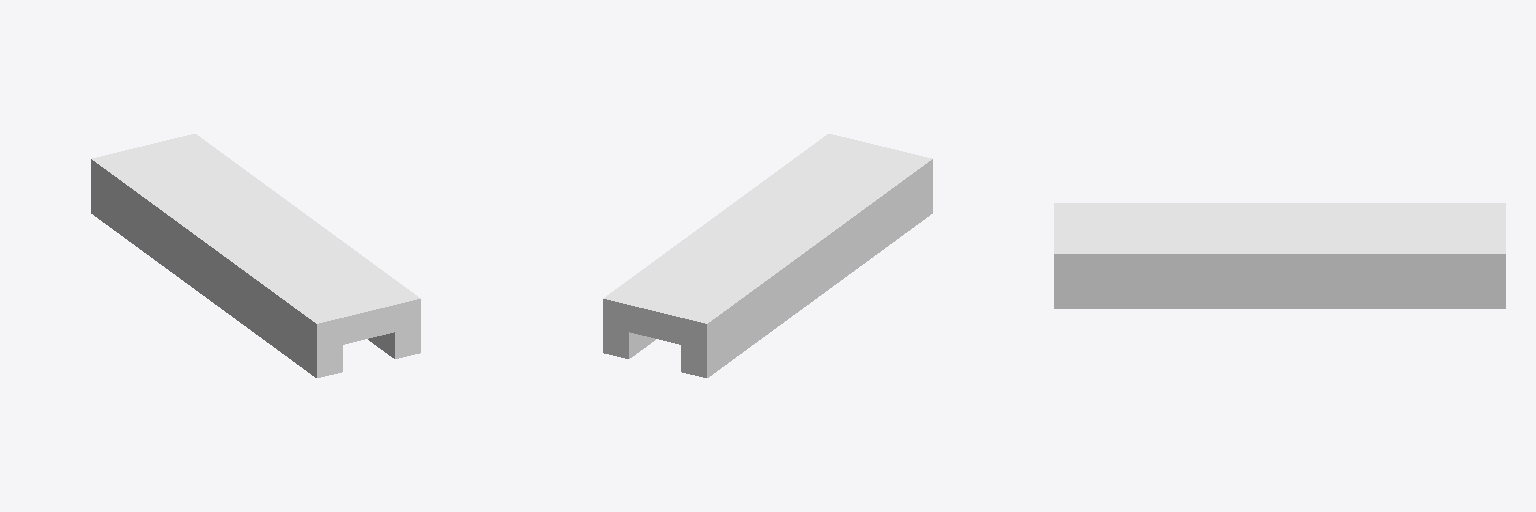
The model's file is Log.obj.
The picture shows the model from 3 angles: view 1: azimuth 30°, elevation 25°; view 2: azimuth 150°, elevation 25°; view 3: azimuth 270°, elevation 25°; orthographic projection.
Parts seen in each view (by area): view 1: object 1; view 2: object 1; view 3: object 1.
Boxes of the visible parts, x1,y1,x2,y2 form: object 1: [91, 134, 420, 377]; object 1: [603, 134, 932, 377]; object 1: [1054, 203, 1505, 308].
Bounding box in the file's own units: 0.4 × 0.2 × 1.5.